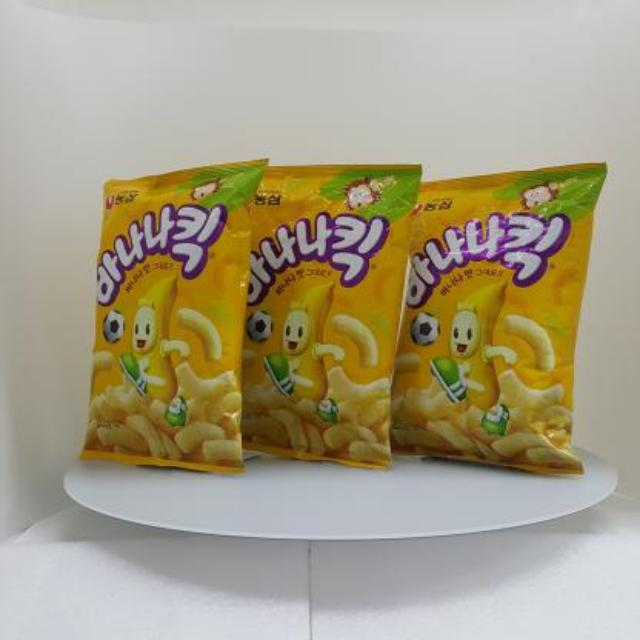snack_bag: (74, 154, 616, 490)
